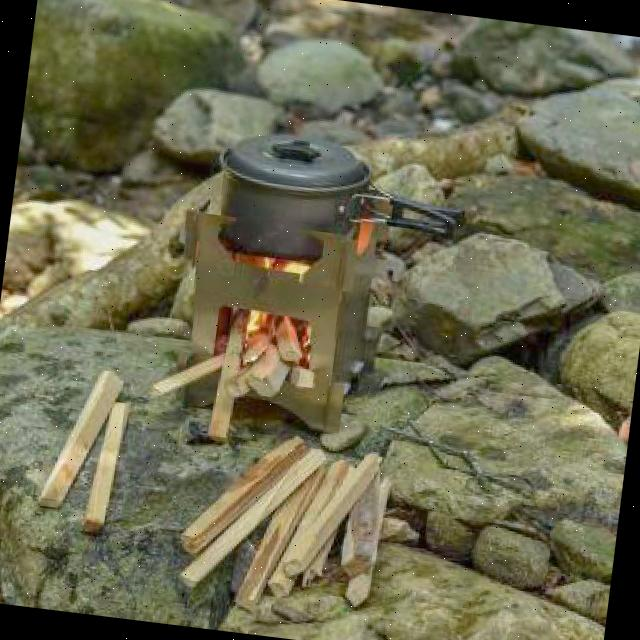fire: (240, 238, 335, 356)
